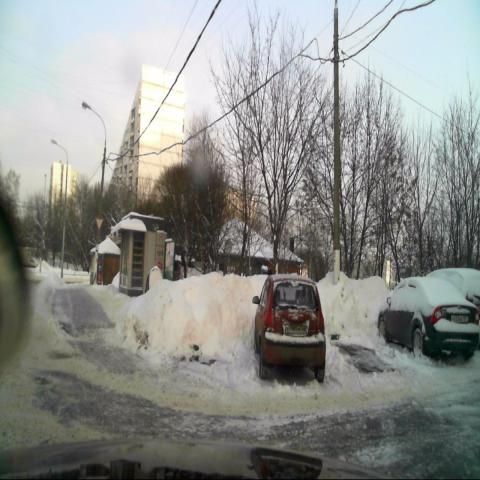2_4: (94, 218, 102, 232)
